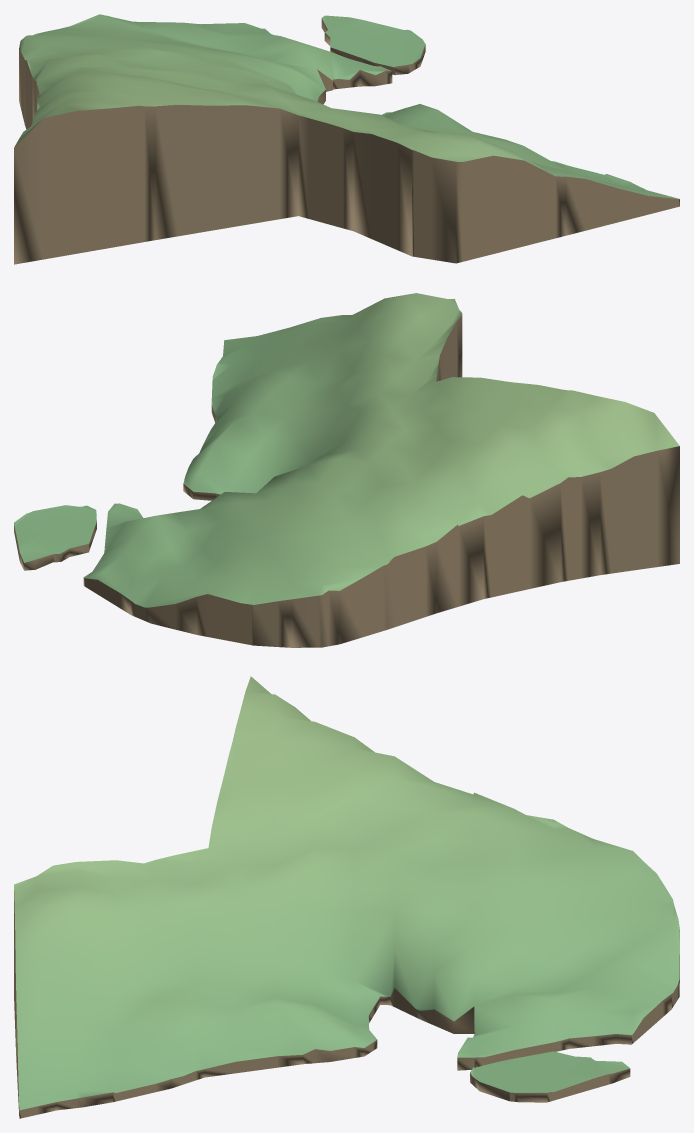
File: KWT.glb
3 renders of one model, top to bottom at view 1: azimuth 30°, elevation 25°; view 2: azimuth 150°, elevation 25°; view 3: azimuth 270°, elevation 25°, orthographic. The views are drawn at different scales.
Parts seen in each view (by area): view 1: KWT; view 2: KWT; view 3: KWT.
Part boxes in pixels (x1,y1,x2,y2): KWT: (14,14,679,264); KWT: (14,293,679,647); KWT: (14,676,679,1118).
Size of the model in its own units: 1.38 by 0.338 by 1.29.
